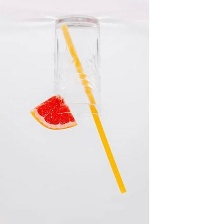drinking_straw: (55, 21, 131, 197)
glass: (51, 11, 105, 122)
